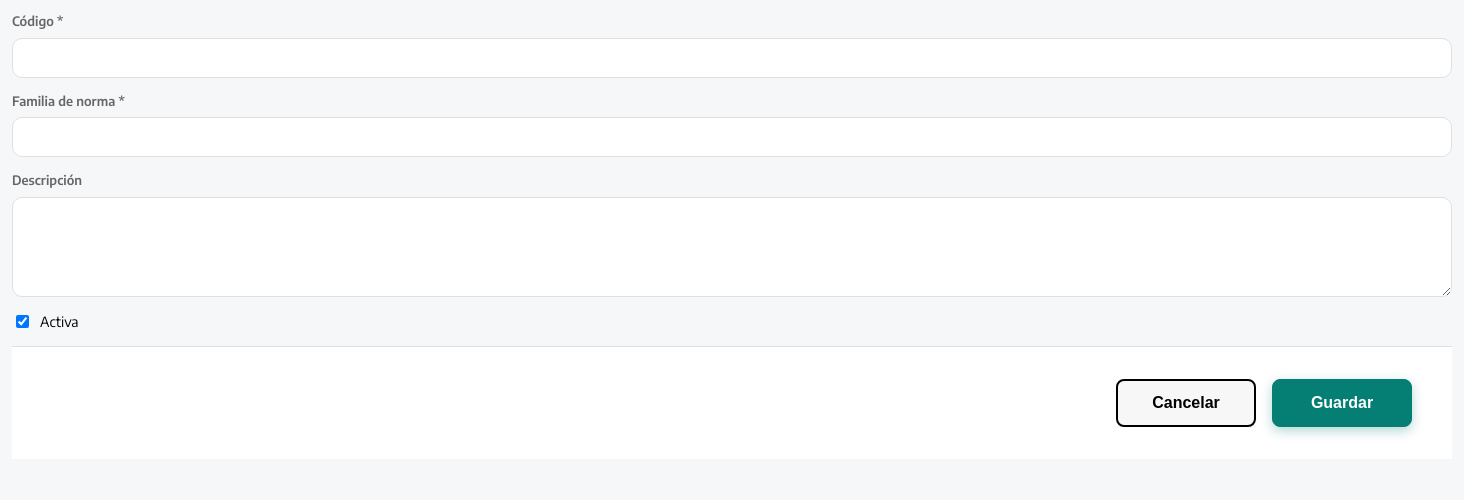
Test: NormaForm › valida campos obligatorios antes de enviar
Click the button "Guardar". click: click(1342, 402)
box: [1272, 378, 1412, 426]
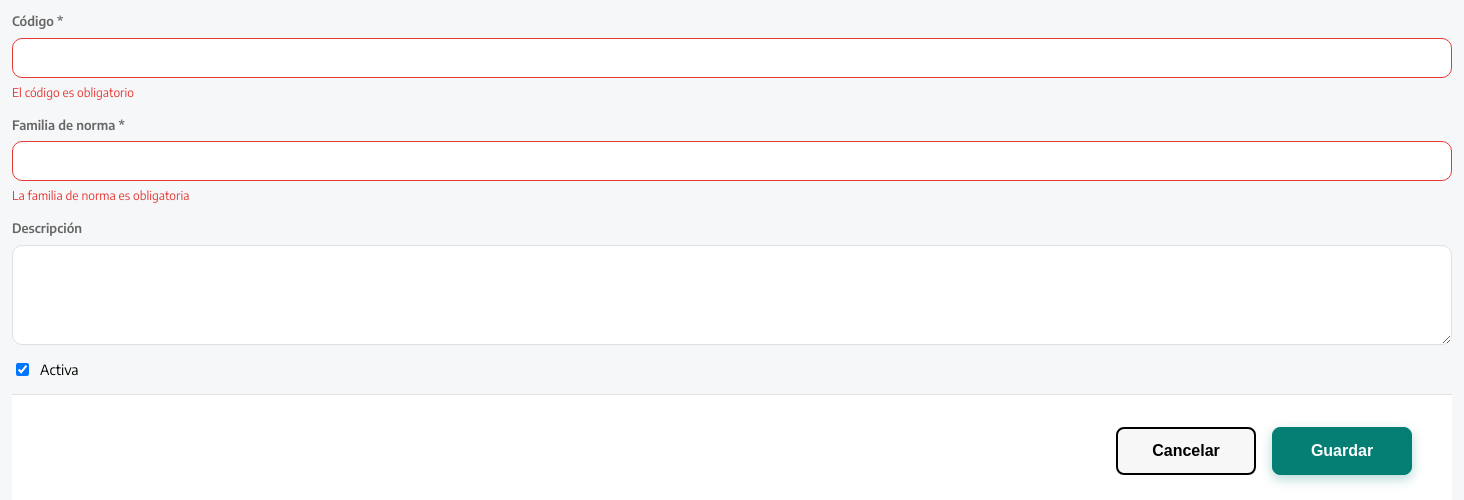
Now the text "El código es obligatorio" is shown, box [12, 84, 134, 100]
Now the text "La familia de norma es obligatoria" is shown, box [12, 188, 189, 203]
